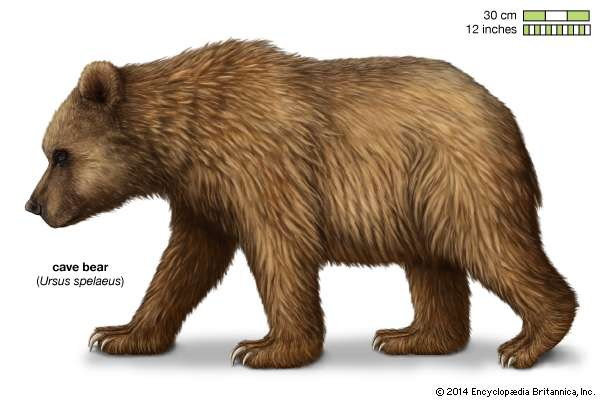bear: (21, 57, 139, 231)
